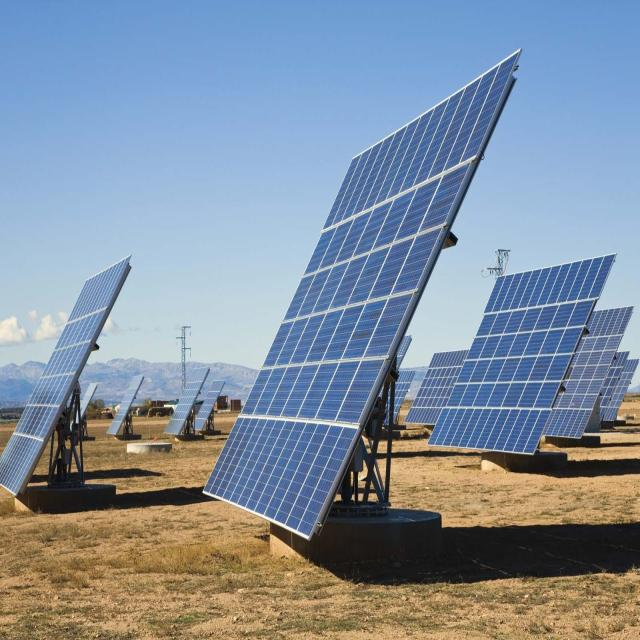clean-solar-panel: (206, 53, 519, 538), (429, 255, 615, 455)
